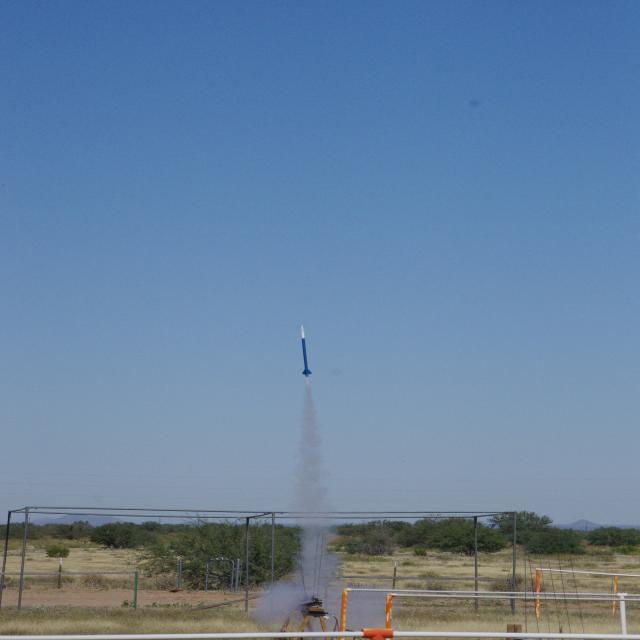Rocket: (300, 325, 312, 378)
